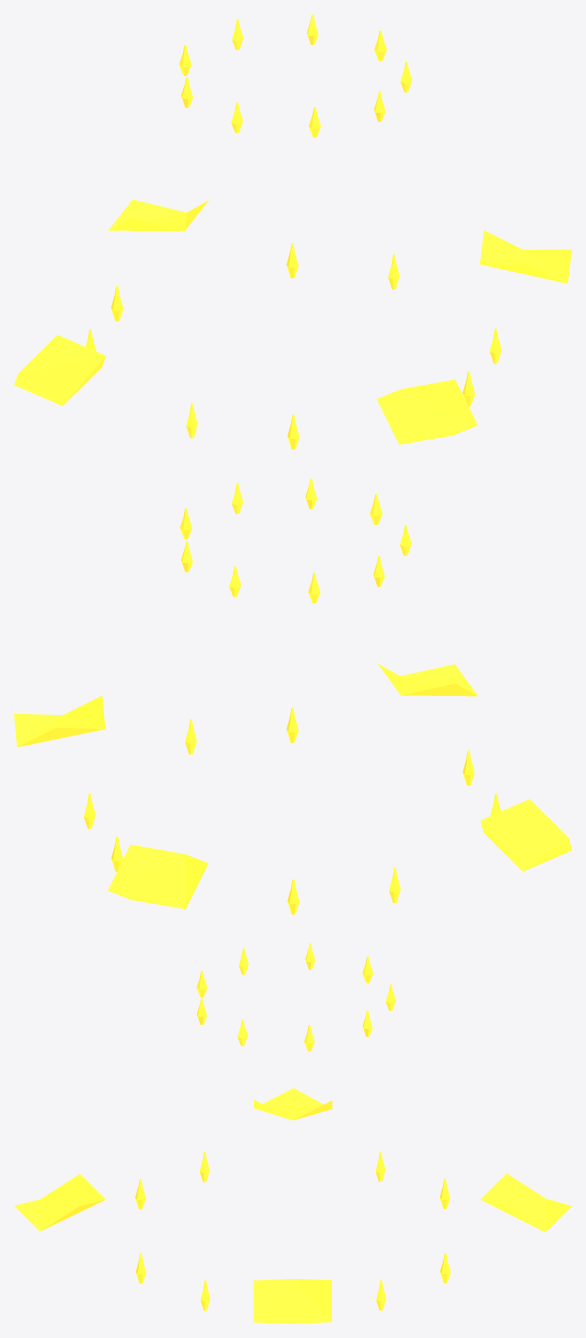
Rendered from CandleLight_ChCT_01.fbx.
The picture shows the model from 3 angles, top to bottom: view 1: azimuth 30°, elevation 25°; view 2: azimuth 150°, elevation 25°; view 3: azimuth 270°, elevation 25°; orthographic projection. The views are drawn at different scales.
Visible parts, largest first — view 1: CandleLight_ChCT_01; view 2: CandleLight_ChCT_01; view 3: CandleLight_ChCT_01.
Part boxes in pixels (x1,y1,x2,y2): CandleLight_ChCT_01: (14,14,571,449); CandleLight_ChCT_01: (14,478,571,914); CandleLight_ChCT_01: (14,943,571,1323).
Bounding box in the file's own units: 526 × 272 × 526.
